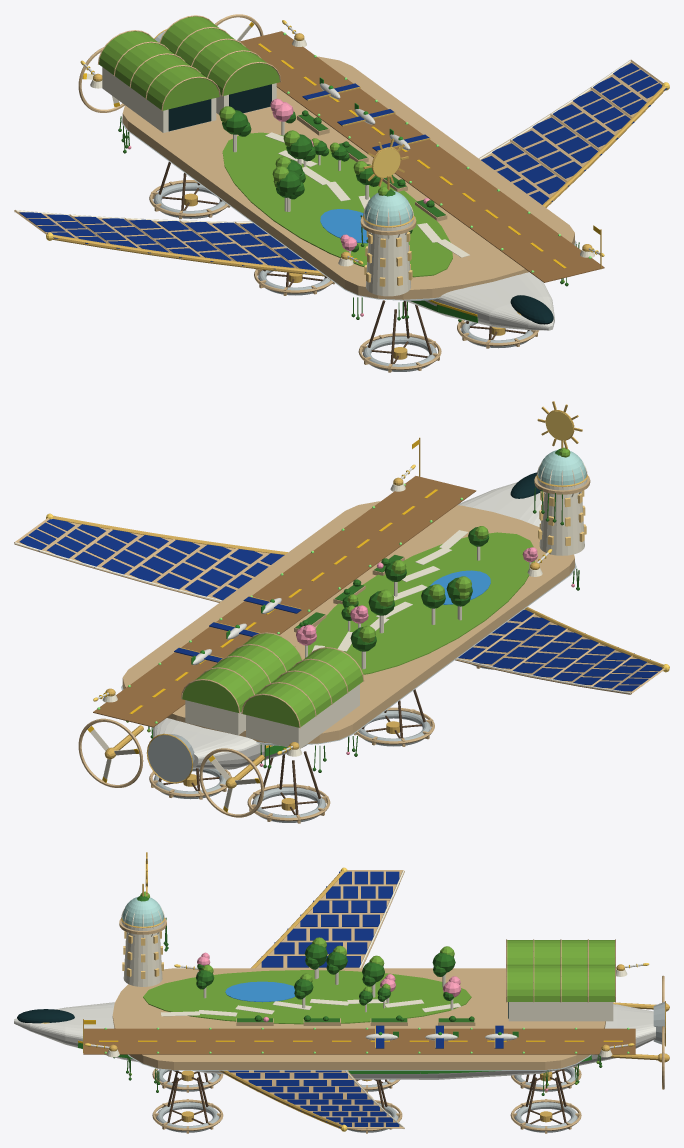
File: carrier.obj
3 views of the same model, one above another, from view 1: azimuth 30°, elevation 25°; view 2: azimuth 150°, elevation 25°; view 3: azimuth 270°, elevation 25° (orthographic). The views are drawn at different scales.
Visible parts, largest first — view 1: carrier; view 2: carrier; view 3: carrier.
Boxes of the visible parts, left/top/right/bottom form: carrier: left=14, top=14, right=669, bottom=372; carrier: left=14, top=401, right=669, bottom=823; carrier: left=14, top=852, right=669, bottom=1133.
Size of the model in its own units: 1032 by 386 by 1100.
Materials: 1 (1 with a texture image).
